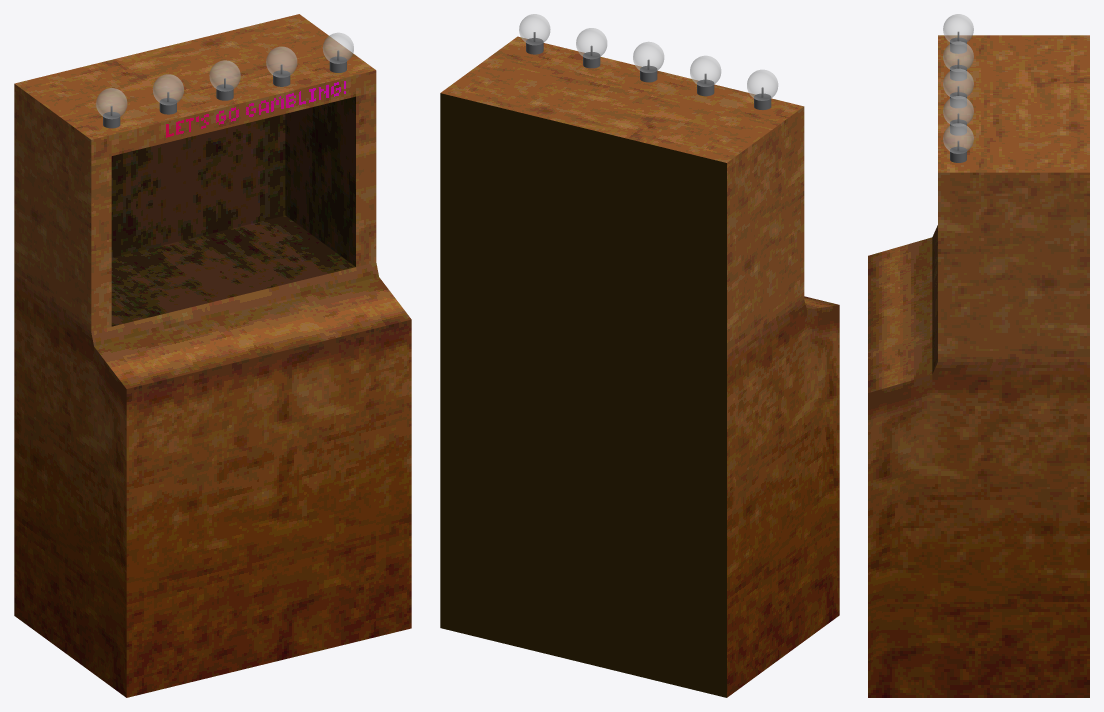
Rendered from slot.glb.
The picture shows the model from 3 angles, left to right: view 1: azimuth 30°, elevation 25°; view 2: azimuth 150°, elevation 25°; view 3: azimuth 270°, elevation 25°; orthographic projection.
Visible parts, largest first — view 1: GamblingMachine; view 2: GamblingMachine; view 3: GamblingMachine.
Boxes of the visible parts, <box> form: GamblingMachine: <box>14,14,411,697</box>; GamblingMachine: <box>440,14,839,697</box>; GamblingMachine: <box>868,14,1089,697</box>.
Size of the model in its own units: 0.8863 by 1.69 by 0.6047.
3 materials, 1 textured.
